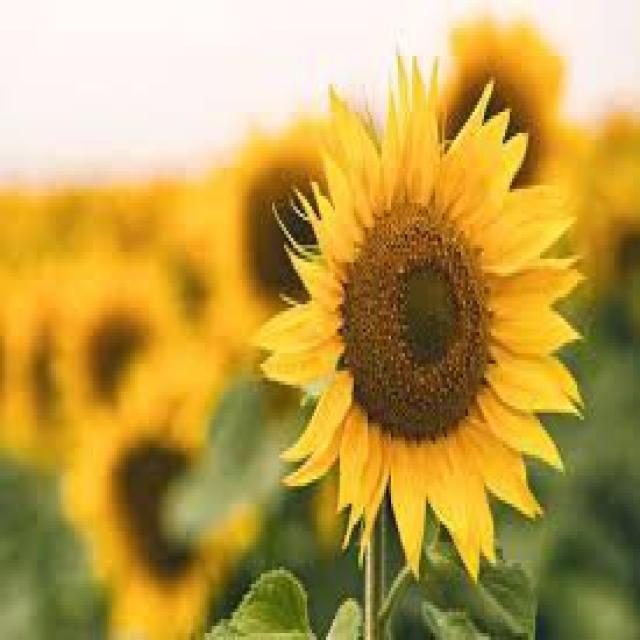sunflower: (252, 49, 586, 584), (57, 379, 253, 634), (437, 14, 583, 222), (226, 120, 339, 308), (55, 260, 176, 406)
